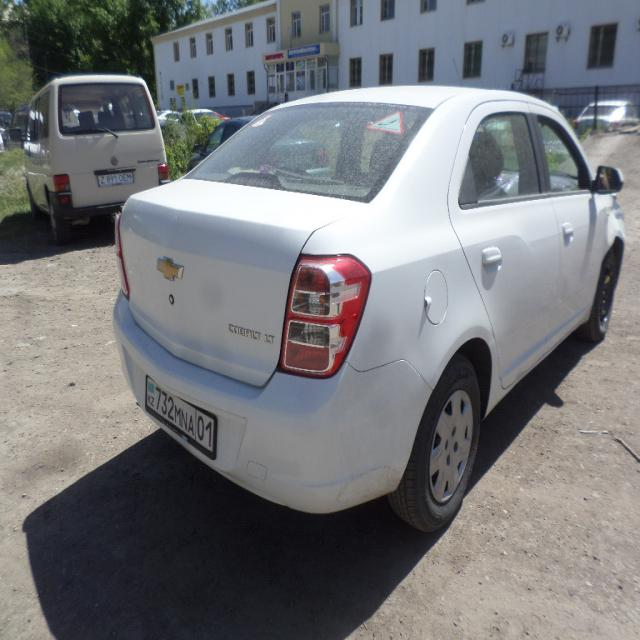Rayure: (329, 457, 408, 508)
